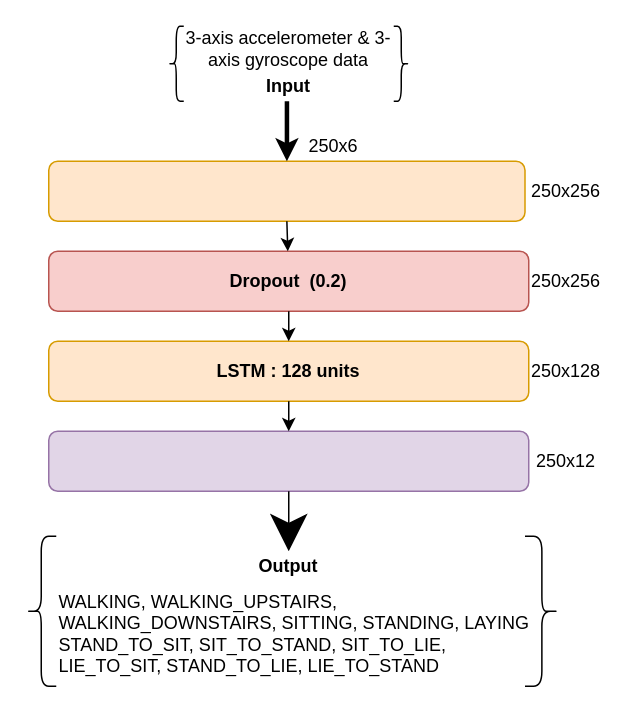
Some shapes in this 627 by 728 pixel diagram are drawn without their labels. Here are the shapes that lost their labels. From the top down, the centre of each, then its label:
At [286,190]: "LSTM : 256 units".
At [288,460]: "D ense : 12 ; Activation_Func : Softmax".
